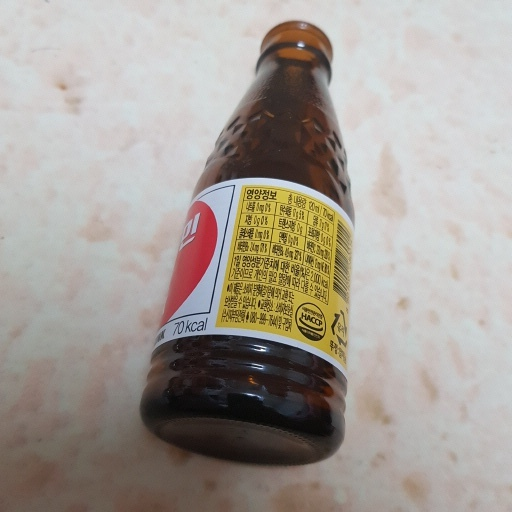Glass_3: (141, 20, 358, 469)
